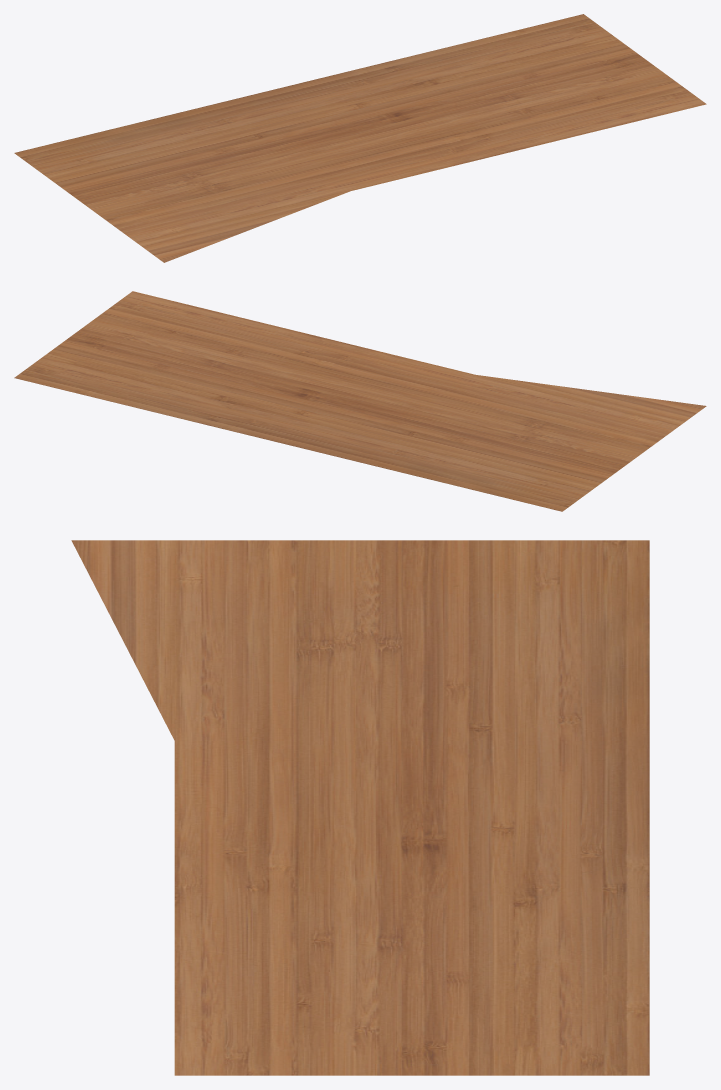
File: GYM_Floor_Wood_5.fbx
The picture shows the model from 3 angles, top to bottom: view 1: azimuth 30°, elevation 25°; view 2: azimuth 150°, elevation 25°; view 3: azimuth 270°, elevation 25°; orthographic projection. The views are drawn at different scales.
Parts seen in each view (by area): view 1: GYM_Wood_Floor_4; view 2: GYM_Wood_Floor_4; view 3: GYM_Wood_Floor_4.
Part boxes in pixels (left/top/right/bottom): GYM_Wood_Floor_4: left=14, top=14, right=706, bottom=262; GYM_Wood_Floor_4: left=14, top=291, right=706, bottom=511; GYM_Wood_Floor_4: left=71, top=540, right=649, bottom=1075.
Size of the model in its own units: 4 by 8.88e-16 by 1.83.
1 material, 1 textured.
